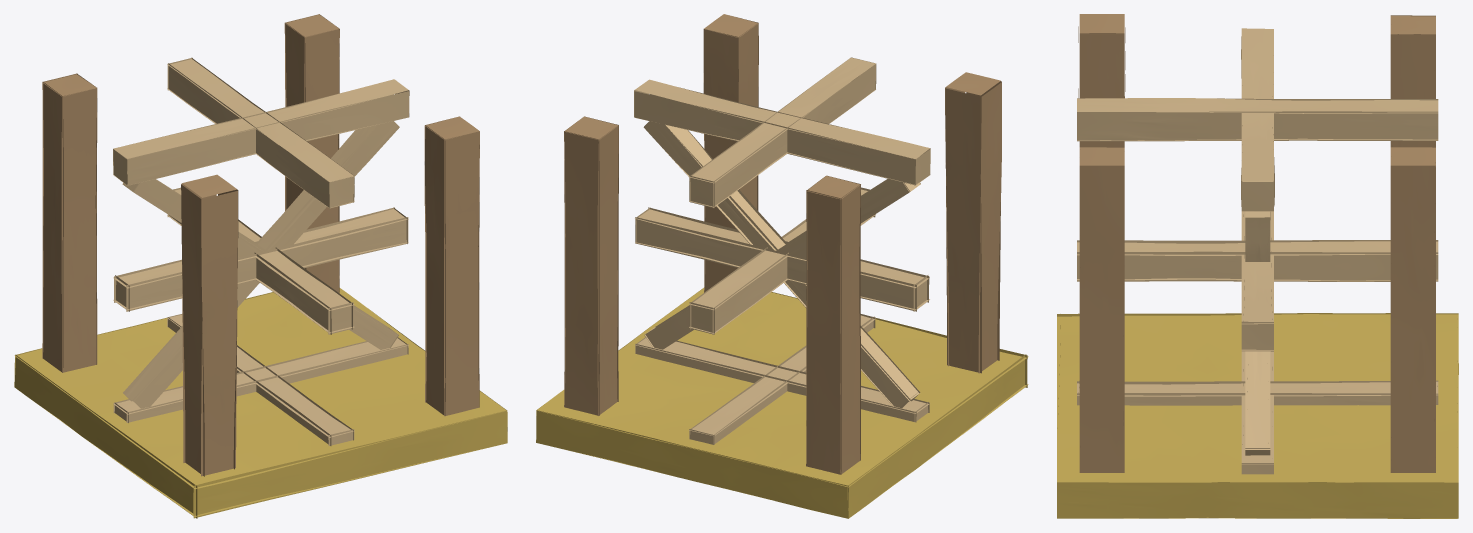
The model's file is cage.glb.
3 views of the same model, side by side, from view 1: azimuth 30°, elevation 25°; view 2: azimuth 150°, elevation 25°; view 3: azimuth 270°, elevation 25° (orthographic). The views are drawn at different scales.
Parts seen in each view (by area): view 1: PangCagePost00; view 2: PangCagePost00; view 3: PangCagePost00.
Part boxes in pixels (x1=…): PangCagePost00: x1=14, y1=14, x2=507, y2=518; PangCagePost00: x1=536, y1=14, x2=1028, y2=518; PangCagePost00: x1=1057, y1=14, x2=1458, y2=518.
Size of the model in its own units: 1.6 by 1.52 by 1.6.
